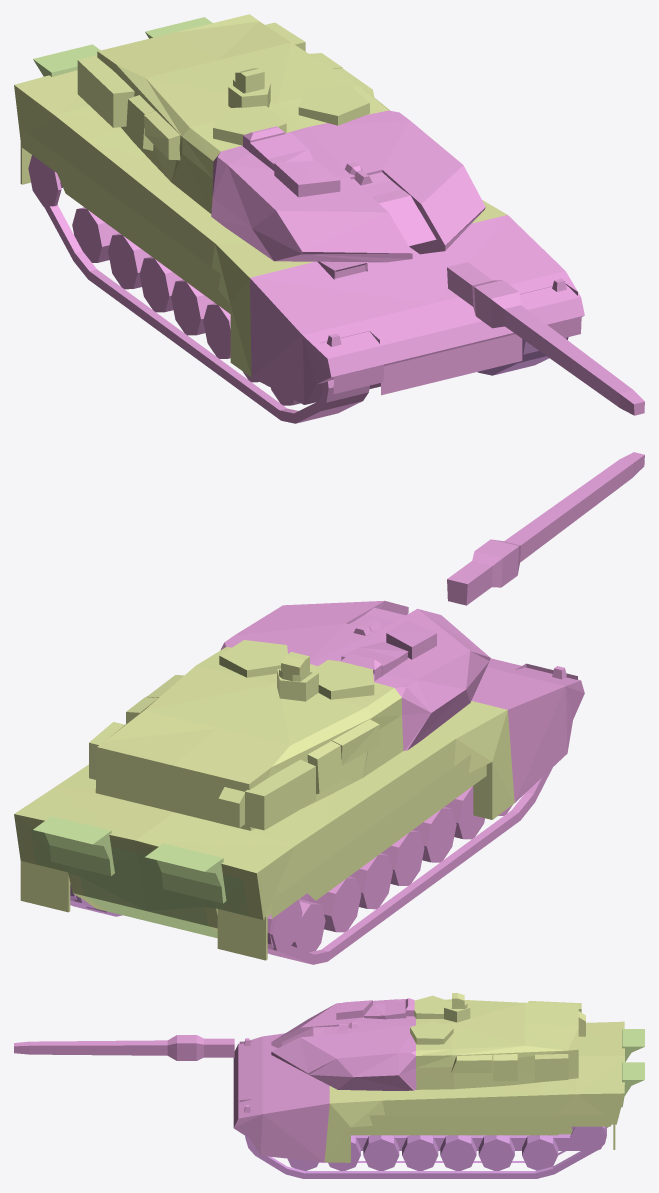
File: land-tracked-tnk-01-heavy.glb
3 renders of one model, top to bottom at view 1: azimuth 30°, elevation 25°; view 2: azimuth 150°, elevation 25°; view 3: azimuth 270°, elevation 25°, orthographic. The views are drawn at different scales.
Visible parts, largest first — view 1: CC_TNK_01_Body, CC_TNK_01_Turret_Yaw_, CC_TNK_01_Turret, CC_TNK_01_Turret_Pitch; view 2: CC_TNK_01_Body, CC_TNK_01_Turret_Yaw_, CC_TNK_01_Turret, CC_TNK_01_Turret_Pitch; view 3: CC_TNK_01_Body, CC_TNK_01_Turret_Yaw_, CC_TNK_01_Turret, CC_TNK_01_Turret_Pitch.
Boxes of the visible parts, x1,y1,x2,y2 form: CC_TNK_01_Body: (14,17,584,423); CC_TNK_01_Turret_Yaw_: (77,14,485,262); CC_TNK_01_Turret: (447,262,644,415); CC_TNK_01_Turret_Pitch: (344,162,436,246); CC_TNK_01_Body: (14,658,584,964); CC_TNK_01_Turret_Yaw_: (89,600,490,830); CC_TNK_01_Turret: (447,452,644,605); CC_TNK_01_Turret_Pitch: (349,607,405,635); CC_TNK_01_Body: (233,1021,644,1178); CC_TNK_01_Turret_Yaw_: (271,993,585,1090); CC_TNK_01_Turret: (14,1035,234,1060); CC_TNK_01_Turret_Pitch: (282,1022,358,1045).
Size of what is drawn, in the model's own units: 3.63 by 3.07 by 12.45.
